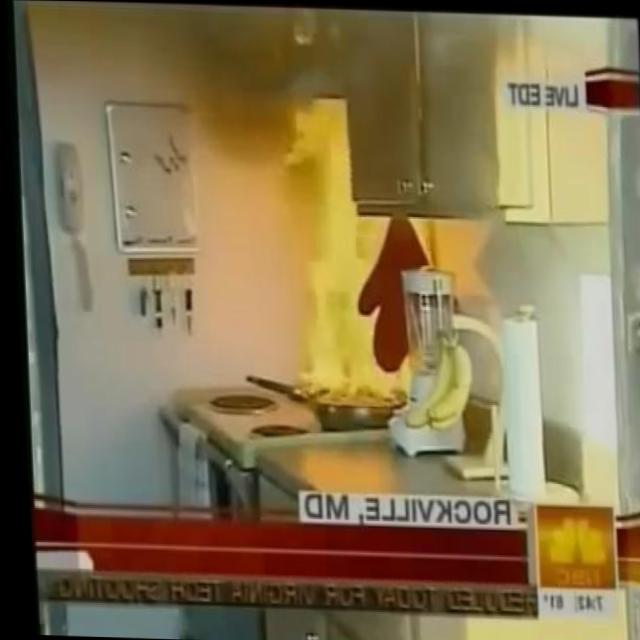fire: (287, 142, 400, 404)
